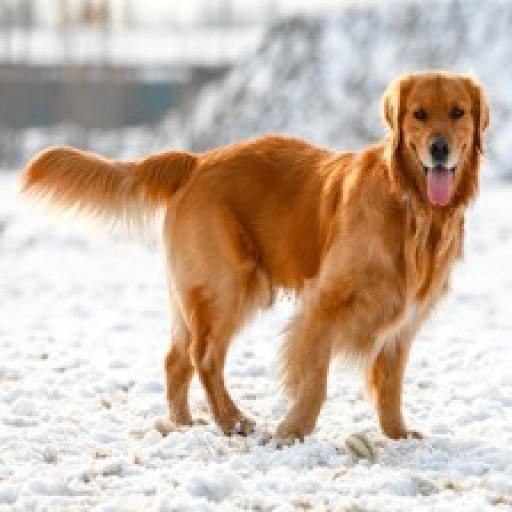dog: (11, 62, 491, 450)
